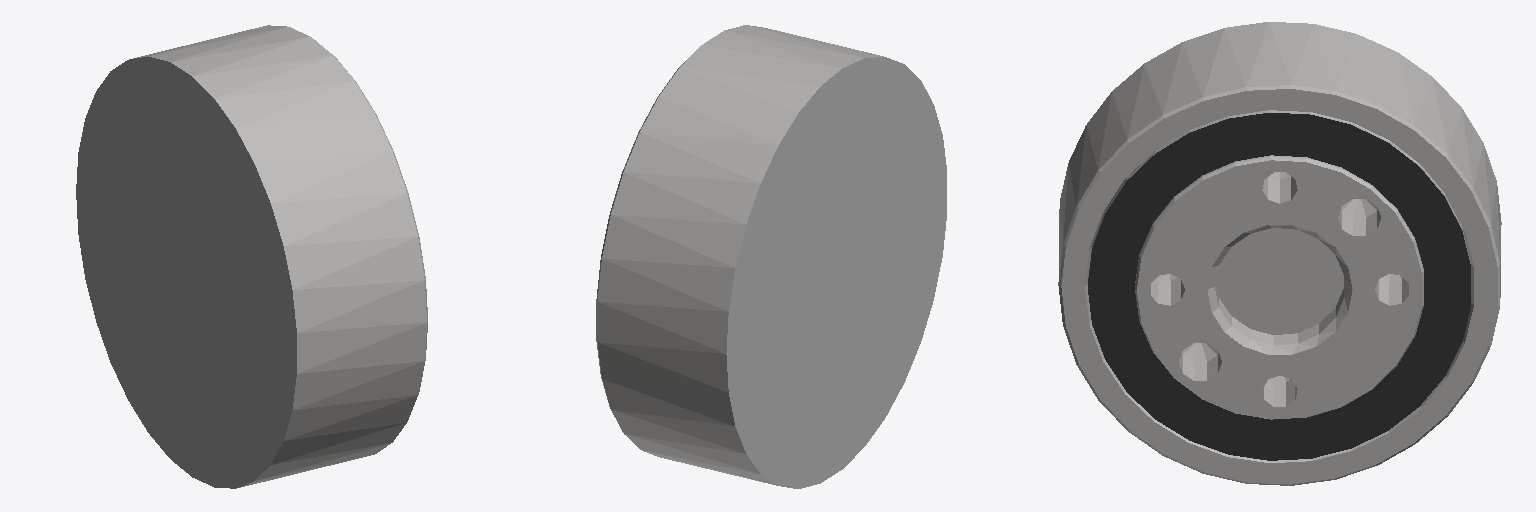
File: meca500link_6.obj
3 views of the same model, side by side, from view 1: azimuth 30°, elevation 25°; view 2: azimuth 150°, elevation 25°; view 3: azimuth 270°, elevation 25° (orthographic).
Visible parts, largest first — view 1: Solid1; view 2: Solid1; view 3: Solid1.
Part boxes in pixels (x1,y1,x2,y2): Solid1: (76, 25, 427, 488); Solid1: (596, 25, 946, 488); Solid1: (1058, 22, 1501, 485).
Size of the model in its own units: 0.011 by 0.0305 by 0.0305.